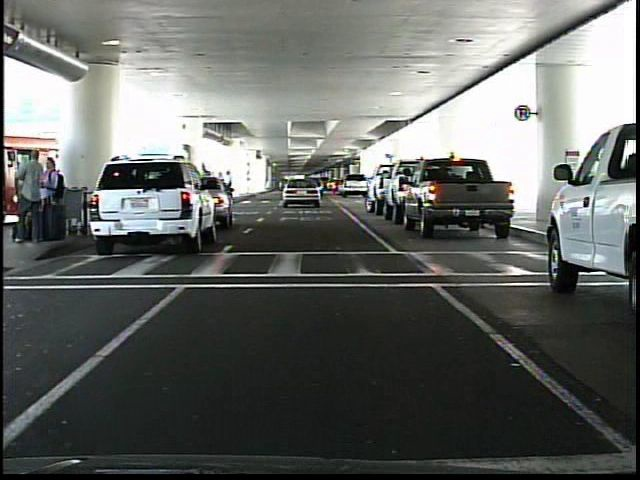person: (17, 149, 51, 245), (44, 157, 69, 245)
